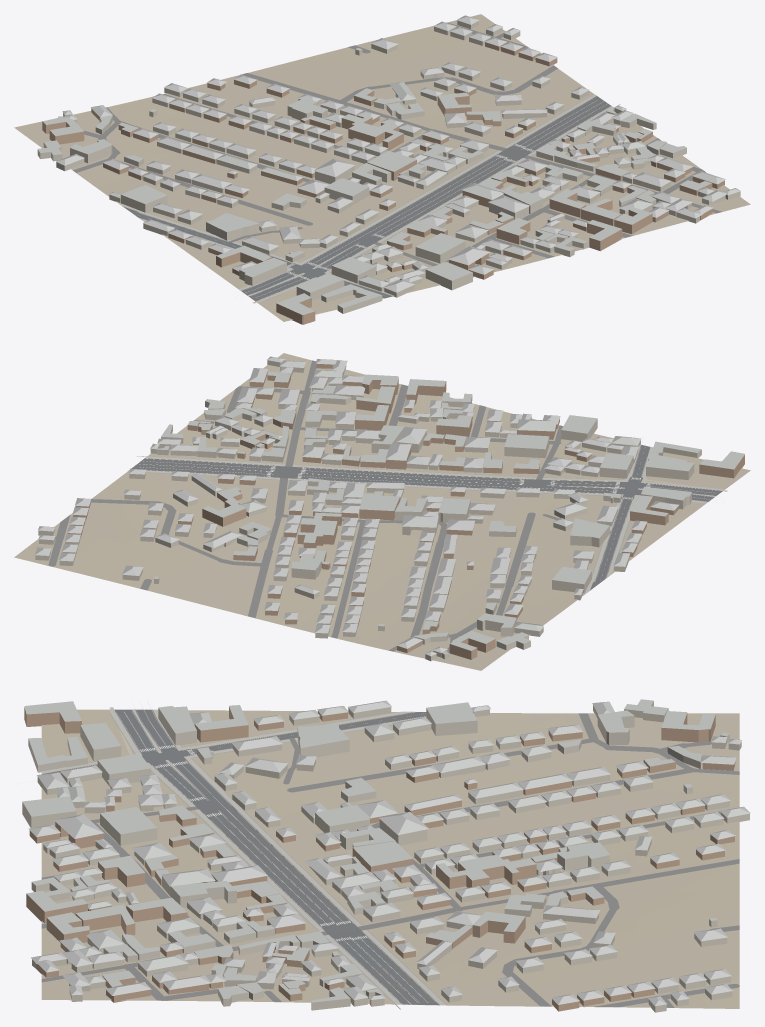
File: bolak_0_4.glb
3 views of the same model, one above another, from view 1: azimuth 30°, elevation 25°; view 2: azimuth 150°, elevation 25°; view 3: azimuth 270°, elevation 25° (orthographic). The views are drawn at different scales.
Parts seen in each view (by area): view 1: Yer_Tuproq-col, Tom_Shifer, Devor_Suvoq-col, Devor_Gisht-col, Yol_Asfalt-col, Yol_Mahalla-col, Trotuar, Yol_Chiziq, Ariq; view 2: Yer_Tuproq-col, Tom_Shifer, Devor_Suvoq-col, Devor_Gisht-col, Yol_Mahalla-col, Yol_Asfalt-col, Trotuar, Yol_Chiziq, Ariq; view 3: Yer_Tuproq-col, Tom_Shifer, Devor_Suvoq-col, Devor_Gisht-col, Yol_Asfalt-col, Yol_Mahalla-col, Trotuar, Yol_Chiziq, Ariq.
Part boxes in pixels (x1=…): Yer_Tuproq-col: x1=14, y1=14, x2=750, y2=321; Tom_Shifer: x1=38, y1=15, x2=740, y2=314; Devor_Suvoq-col: x1=37, y1=20, x2=740, y2=313; Devor_Gisht-col: x1=42, y1=42, x2=724, y2=324; Yol_Asfalt-col: x1=123, y1=96, x2=610, y2=301; Yol_Mahalla-col: x1=73, y1=22, x2=721, y2=277; Trotuar: x1=117, y1=94, x2=613, y2=302; Yol_Chiziq: x1=235, y1=100, x2=613, y2=298; Ariq: x1=147, y1=96, x2=620, y2=301; Yer_Tuproq-col: x1=14, y1=353, x2=750, y2=670; Tom_Shifer: x1=35, y1=356, x2=744, y2=656; Devor_Suvoq-col: x1=35, y1=360, x2=701, y2=661; Devor_Gisht-col: x1=67, y1=363, x2=744, y2=659; Yol_Mahalla-col: x1=48, y1=360, x2=610, y2=653; Yol_Asfalt-col: x1=131, y1=445, x2=722, y2=590; Trotuar: x1=128, y1=444, x2=724, y2=594; Yol_Chiziq: x1=137, y1=436, x2=724, y2=582; Ariq: x1=137, y1=456, x2=719, y2=576; Yer_Tuproq-col: x1=41, y1=709, x2=739, y2=1008; Tom_Shifer: x1=22, y1=699, x2=750, y2=1005; Devor_Suvoq-col: x1=22, y1=701, x2=749, y2=1012; Devor_Gisht-col: x1=24, y1=707, x2=735, y2=1011; Yol_Asfalt-col: x1=42, y1=709, x2=439, y2=1005; Yol_Mahalla-col: x1=41, y1=713, x2=739, y2=1007; Trotuar: x1=41, y1=709, x2=444, y2=1004; Yol_Chiziq: x1=17, y1=700, x2=435, y2=1006; Ariq: x1=89, y1=713, x2=443, y2=1009.
Size of what is drawn, in the model's own units: 421 by 15.01 by 422.
